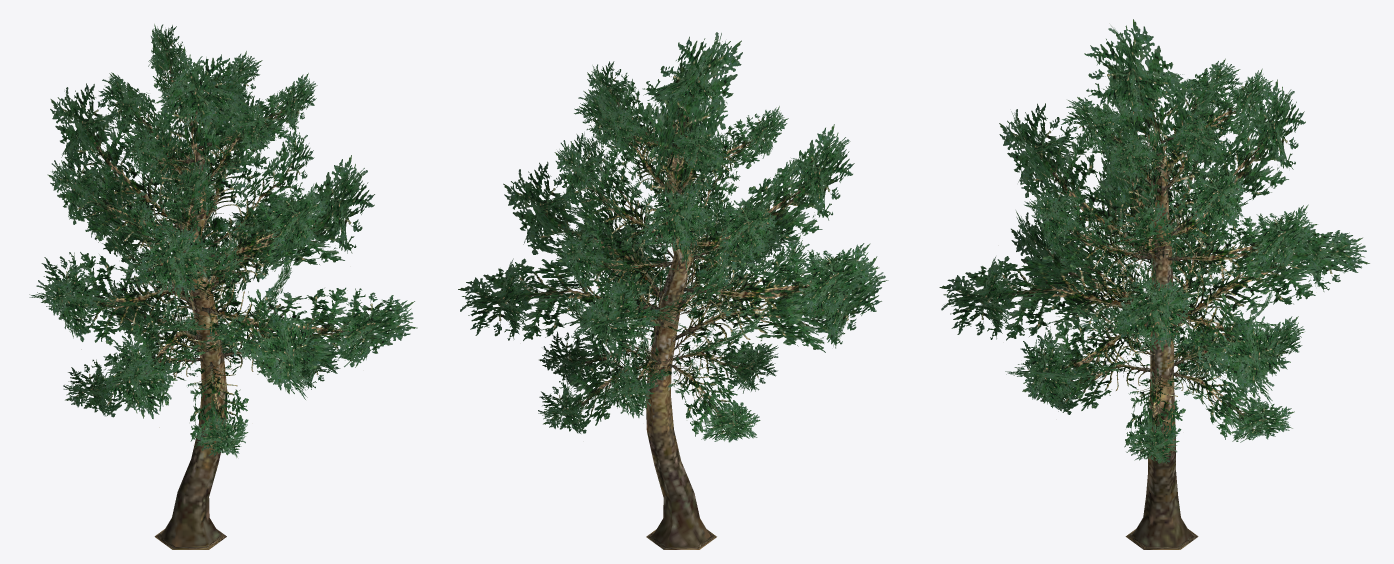
The model's file is aleppo_pine_v2.glb.
3 renders of one model, left to right at view 1: azimuth 30°, elevation 25°; view 2: azimuth 150°, elevation 25°; view 3: azimuth 270°, elevation 25°, orthographic. The views are drawn at different scales.
Parts seen in each view (by area): view 1: tree_pine_aleppo_1; view 2: tree_pine_aleppo_1; view 3: tree_pine_aleppo_1.
Boxes of the visible parts, bbox=[...] form: tree_pine_aleppo_1: bbox=[29, 24, 417, 549]; tree_pine_aleppo_1: bbox=[458, 32, 888, 549]; tree_pine_aleppo_1: bbox=[939, 19, 1369, 549].
Size of the model in its own units: 15.11 by 19.92 by 15.7.
Materials: 1 (1 with a texture image).
